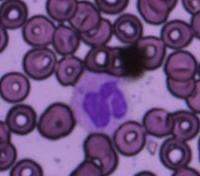N: (70, 71, 134, 135)
